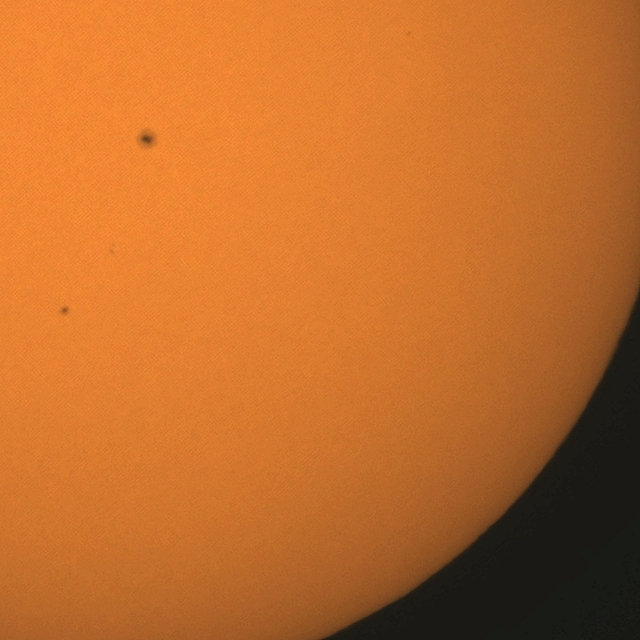sunspot: (136, 130, 156, 150), (59, 305, 70, 317)
